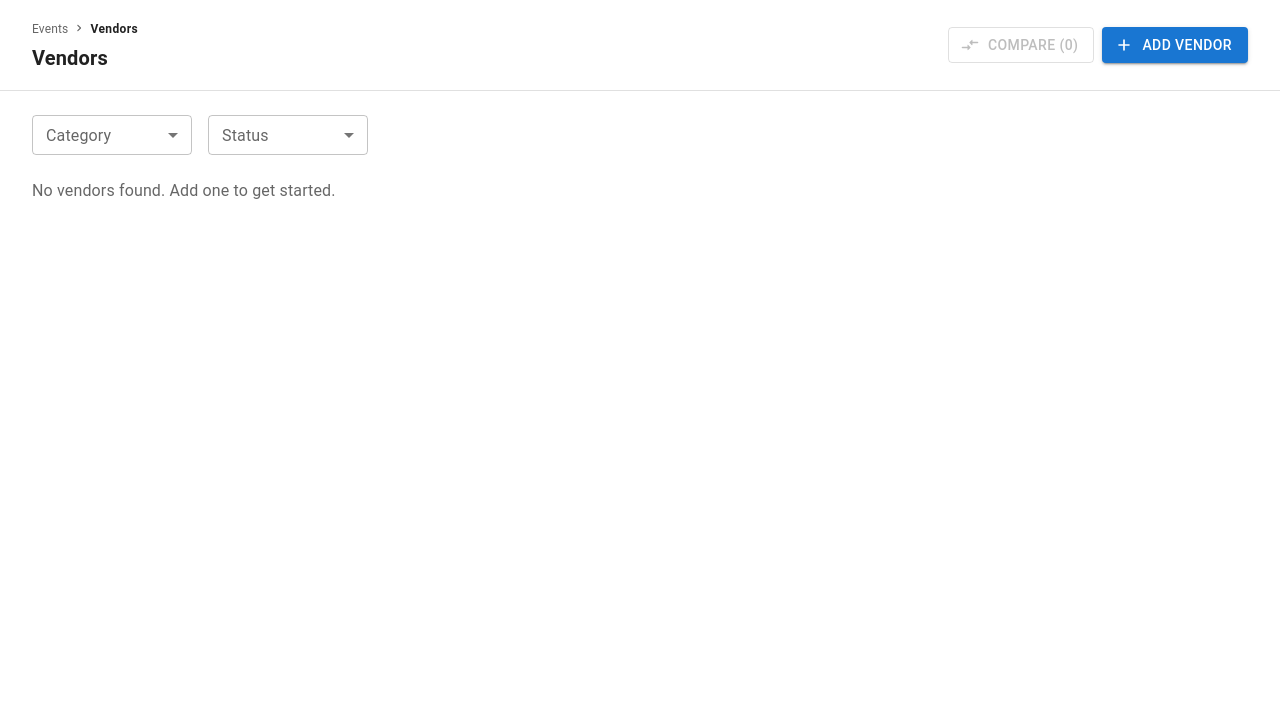
Scenario: dialog category interaction debug › can interact with category select
Expected: the text "No vendors found. Add one to get started." is shown, top-left (32, 181), bottom-right (336, 200)
Click the button "Add Vendor": (1175, 45) top-left (1102, 27), bottom-right (1248, 63)
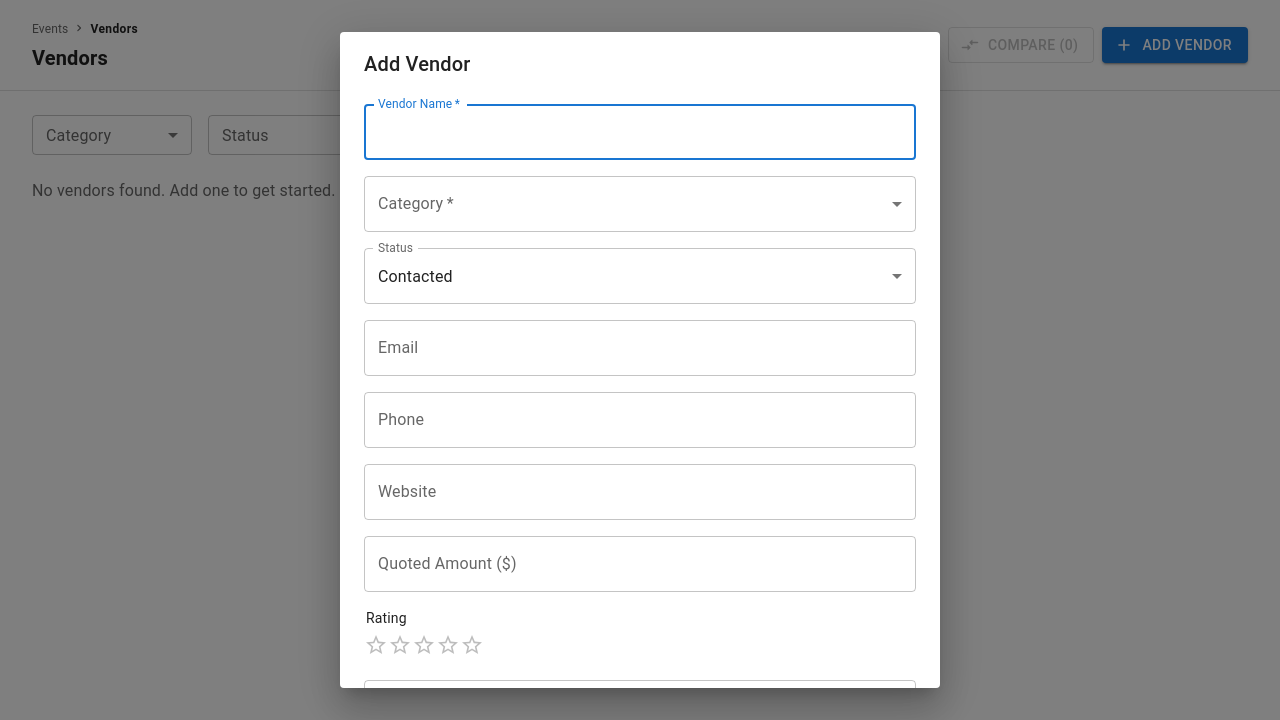
Press the mouse on the dropdown named "category": (640, 204) top-left (364, 176), bottom-right (916, 232)
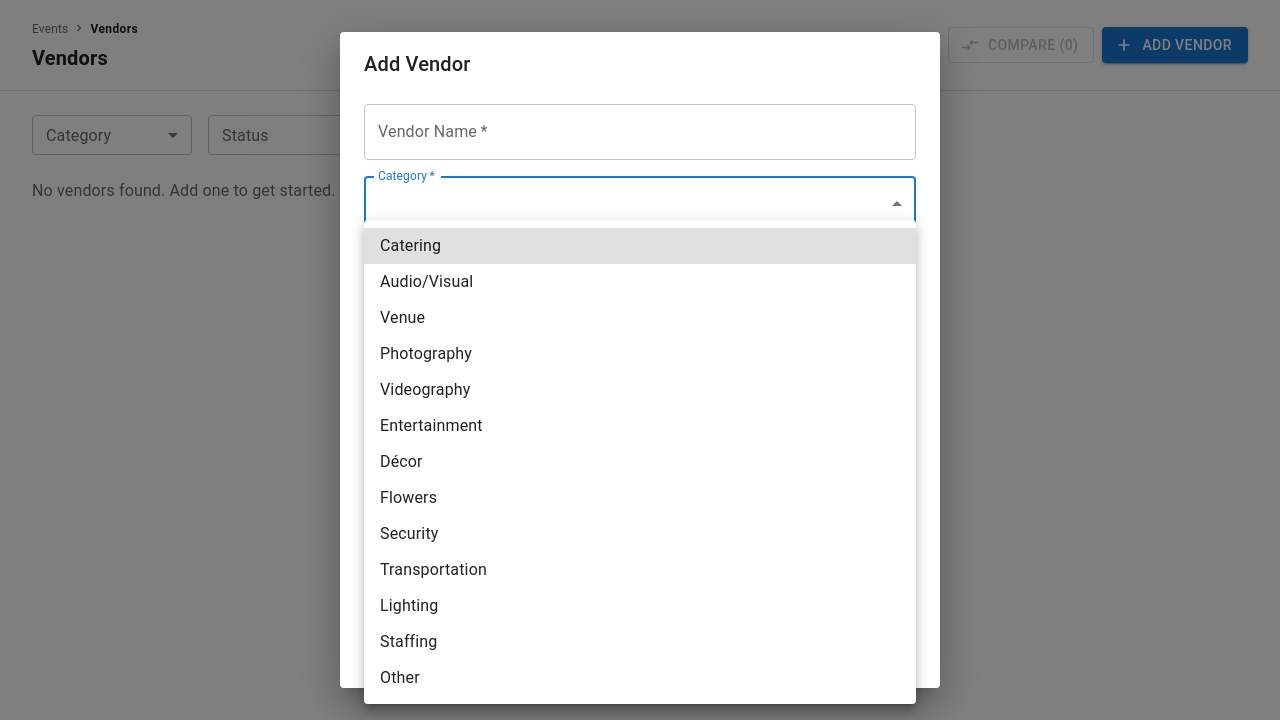
Expected: the dialog is shown, top-left (340, 32), bottom-right (940, 688)
Expected: the option "Catering" is shown, top-left (364, 228), bottom-right (916, 264)
